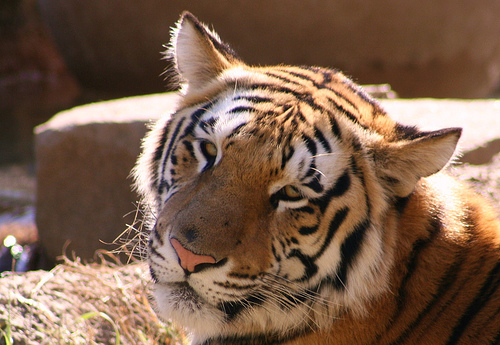Tigre: (113, 15, 471, 345)
